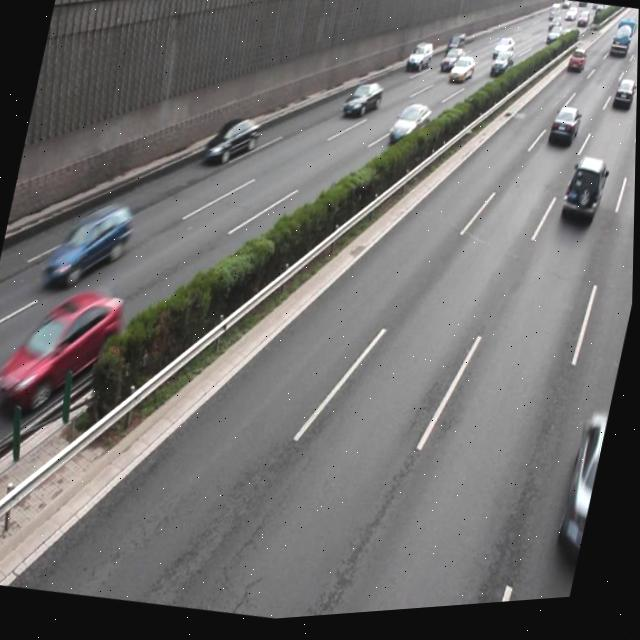car: (0, 274, 129, 430), (39, 190, 139, 300), (553, 413, 612, 574), (558, 160, 611, 235), (201, 111, 262, 175), (387, 103, 432, 154), (341, 81, 385, 128), (546, 110, 583, 161)
